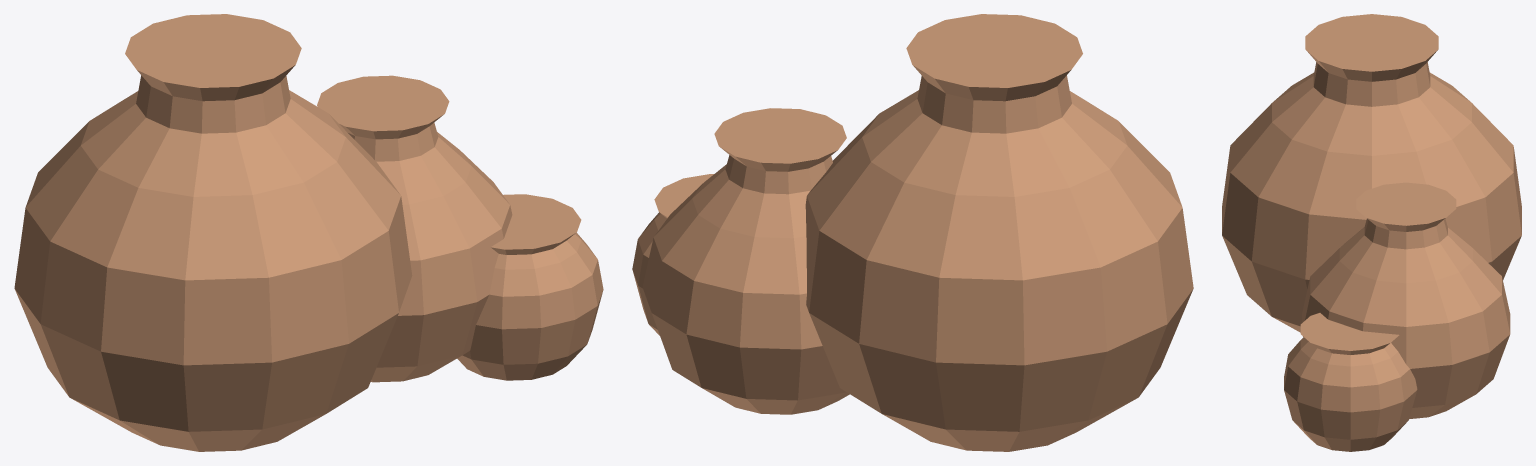
The model's file is pots.glb.
The picture shows the model from 3 angles, left to right: view 1: azimuth 30°, elevation 25°; view 2: azimuth 150°, elevation 25°; view 3: azimuth 270°, elevation 25°; orthographic projection. The views are drawn at different scales.
Parts seen in each view (by area): view 1: Pot_Large.001, Pot_Medium.001, Pot_Small.001; view 2: Pot_Large.001, Pot_Medium.001, Pot_Small.001; view 3: Pot_Large.001, Pot_Medium.001, Pot_Small.001.
Boxes of the visible parts, box(x1,y1,x2,y2) form: Pot_Large.001: box(14, 14, 412, 451); Pot_Medium.001: box(317, 75, 512, 382); Pot_Small.001: box(457, 194, 603, 380); Pot_Large.001: box(805, 14, 1193, 451); Pot_Medium.001: box(642, 108, 849, 414); Pot_Small.001: box(632, 174, 713, 335); Pot_Large.001: box(1222, 14, 1521, 332); Pot_Medium.001: box(1302, 182, 1510, 418); Pot_Small.001: box(1284, 313, 1417, 451).
Size of the model in its own units: 0.8064 by 0.5472 by 0.5054.
